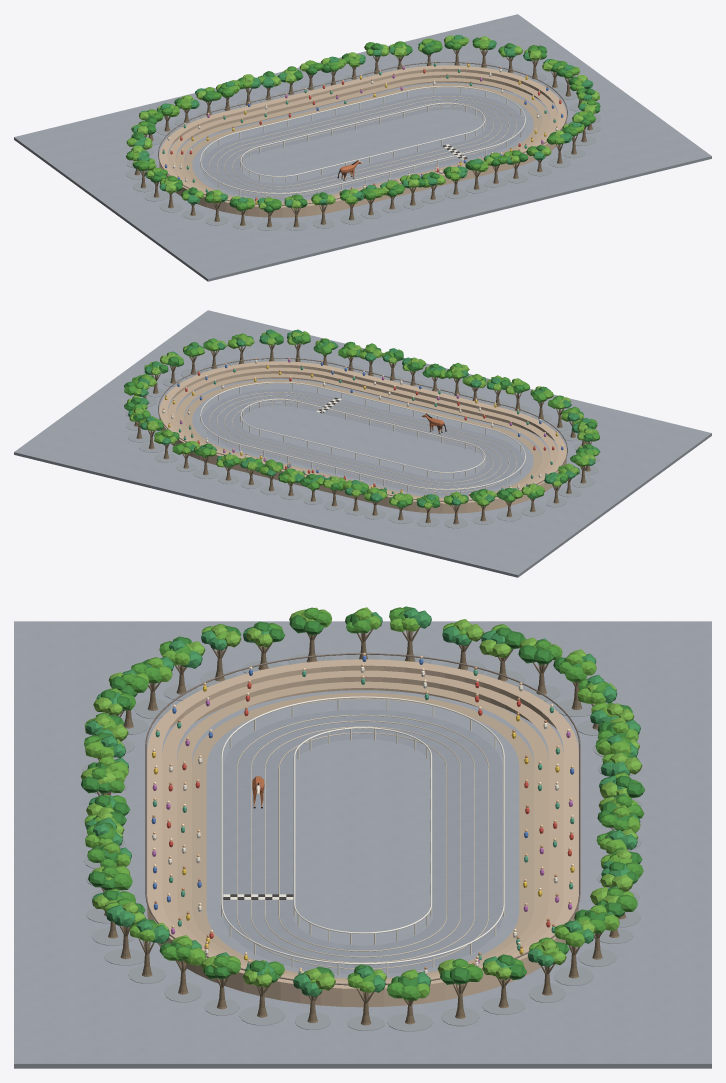
The model's file is racetrack-synthetic.glb.
The picture shows the model from 3 angles, top to bottom: view 1: azimuth 30°, elevation 25°; view 2: azimuth 150°, elevation 25°; view 3: azimuth 270°, elevation 25°; orthographic projection. The views are drawn at different scales.
Parts seen in each view (by area): view 1: SOIL_ground_color_detail, ENV_oval_racing_surface, STAND_oval_terrace_4, STAND_oval_terrace_3, STAND_oval_terrace_2, ENV_gray_base, STAND_oval_terrace_1, ENV_outer_white_rail, ENV_inner_white_rail, STAND_outer_guard_rail, LANE_divider_4, LANE_divider_3 (+2 smaller); view 2: SOIL_ground_color_detail, ENV_oval_racing_surface, STAND_oval_terrace_4, STAND_oval_terrace_3, STAND_oval_terrace_2, ENV_gray_base, STAND_oval_terrace_1, ENV_outer_white_rail, ENV_inner_white_rail, STAND_outer_guard_rail, LANE_divider_4, LANE_divider_3 (+2 smaller); view 3: SOIL_ground_color_detail, ENV_oval_racing_surface, STAND_oval_terrace_4, STAND_oval_terrace_3, STAND_oval_terrace_2, STAND_oval_terrace_1, ENV_gray_base, ENV_outer_white_rail, STAND_outer_guard_rail, ENV_inner_white_rail, LANE_divider_1, LANE_divider_4 (+2 smaller).
Part boxes in pixels (x1,y1,x2,y2): SOIL_ground_color_detail: (14, 14, 711, 278); ENV_oval_racing_surface: (201, 93, 524, 199); STAND_oval_terrace_4: (159, 65, 566, 217); STAND_oval_terrace_3: (167, 71, 558, 203); STAND_oval_terrace_2: (176, 77, 549, 203); ENV_gray_base: (14, 137, 711, 281); STAND_oval_terrace_1: (184, 84, 541, 202); ENV_outer_white_rail: (200, 86, 525, 193); ENV_inner_white_rail: (240, 103, 485, 176); STAND_outer_guard_rail: (158, 62, 567, 205); LANE_divider_4: (209, 96, 516, 196); LANE_divider_3: (216, 99, 509, 193); SOIL_ground_color_detail: (14, 310, 711, 574); ENV_oval_racing_surface: (201, 389, 524, 495); STAND_oval_terrace_4: (159, 361, 566, 513); STAND_oval_terrace_3: (167, 367, 558, 499); STAND_oval_terrace_2: (176, 373, 549, 499); ENV_gray_base: (14, 433, 711, 577); STAND_oval_terrace_1: (184, 380, 541, 498); ENV_outer_white_rail: (200, 382, 525, 489); ENV_inner_white_rail: (240, 399, 485, 472); STAND_outer_guard_rail: (158, 358, 567, 501); LANE_divider_4: (209, 392, 516, 492); LANE_divider_3: (216, 395, 509, 489); SOIL_ground_color_detail: (14, 621, 711, 1063); ENV_oval_racing_surface: (223, 709, 502, 974); STAND_oval_terrace_4: (147, 659, 578, 1007); STAND_oval_terrace_3: (162, 670, 563, 982); STAND_oval_terrace_2: (177, 681, 548, 980); STAND_oval_terrace_1: (192, 693, 533, 979); ENV_gray_base: (14, 1063, 711, 1068); ENV_outer_white_rail: (221, 696, 504, 964); STAND_outer_guard_rail: (145, 653, 580, 985); ENV_inner_white_rail: (293, 727, 432, 933); LANE_divider_1: (278, 732, 447, 951); LANE_divider_4: (237, 714, 488, 968).
Bounding box in the file's own units: 60 × 3.84 × 40.
